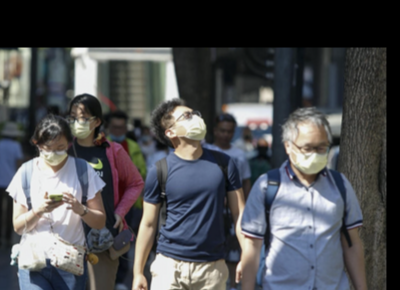mask_weared_incorrect: (108, 120, 125, 143)
with_mask: (288, 136, 330, 174), (171, 109, 205, 142), (38, 138, 68, 167), (68, 108, 95, 138)
without_mask: (215, 123, 234, 145)
